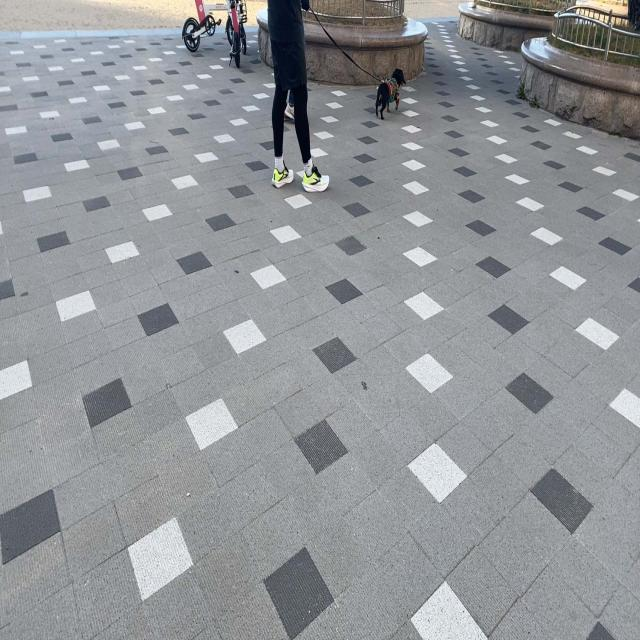Leashed_Dog: (290, 0, 405, 120)
